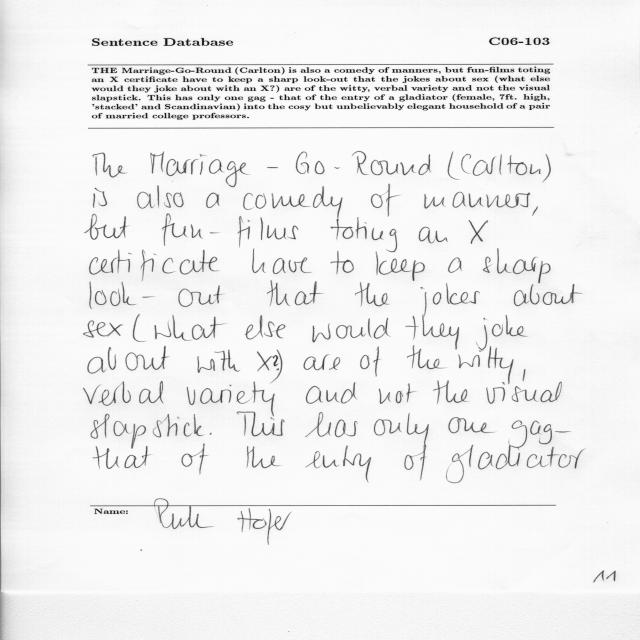word: (150, 151, 431, 187), (244, 186, 354, 239), (162, 214, 299, 248), (90, 249, 219, 281), (91, 414, 205, 449), (90, 282, 224, 309), (478, 439, 585, 469), (187, 382, 275, 417), (306, 446, 372, 483), (483, 249, 551, 283), (458, 343, 514, 384), (83, 381, 164, 406), (421, 283, 480, 317), (406, 315, 460, 350), (312, 318, 390, 342), (154, 315, 225, 341), (476, 315, 528, 350), (424, 192, 530, 209), (461, 154, 541, 176), (486, 382, 562, 404), (252, 249, 312, 274), (514, 284, 582, 306), (376, 251, 425, 281), (356, 217, 397, 252), (374, 413, 429, 439), (267, 281, 322, 306), (93, 446, 151, 469), (305, 412, 358, 437), (237, 412, 285, 436), (85, 214, 129, 240), (137, 185, 184, 209), (306, 382, 357, 404), (126, 346, 170, 371), (446, 445, 473, 483), (197, 350, 240, 373), (245, 315, 286, 339), (512, 421, 552, 445), (404, 439, 427, 480), (407, 345, 446, 369), (371, 184, 399, 217), (93, 153, 127, 178), (182, 444, 209, 475), (257, 350, 282, 383), (355, 283, 389, 307), (433, 381, 468, 404), (379, 383, 417, 404), (88, 347, 116, 374), (448, 417, 495, 433), (247, 446, 281, 468), (84, 321, 124, 338), (360, 347, 380, 377), (330, 251, 354, 274), (419, 227, 448, 243), (469, 220, 488, 244), (304, 355, 330, 371), (133, 314, 146, 342), (448, 152, 459, 180), (94, 188, 107, 208), (542, 154, 551, 182), (448, 257, 462, 273), (206, 192, 219, 208), (329, 357, 340, 370), (532, 207, 538, 216), (523, 369, 526, 381), (555, 431, 571, 433), (276, 369, 279, 371), (210, 433, 212, 435)
